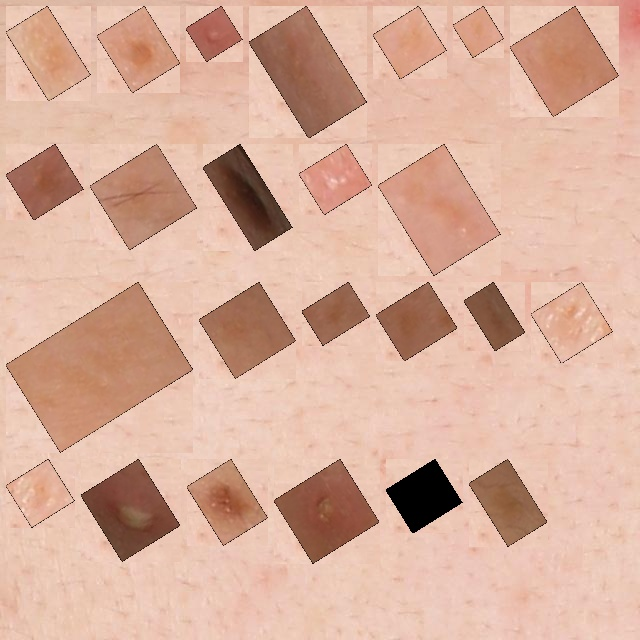melasma: (17, 293, 182, 441), (389, 155, 489, 264), (260, 17, 356, 127), (521, 17, 608, 105), (101, 155, 186, 238), (210, 293, 285, 367), (17, 17, 79, 90), (108, 17, 169, 81), (480, 470, 536, 535), (542, 293, 602, 352), (387, 293, 446, 350), (17, 155, 72, 209), (397, 470, 451, 522), (384, 17, 435, 68), (17, 470, 63, 516), (313, 293, 359, 334), (475, 293, 514, 340), (464, 17, 493, 46)
nevus: (214, 155, 281, 239), (198, 470, 257, 534)
pustule: (285, 470, 368, 552), (92, 470, 169, 550), (310, 155, 361, 203), (197, 17, 231, 50)
